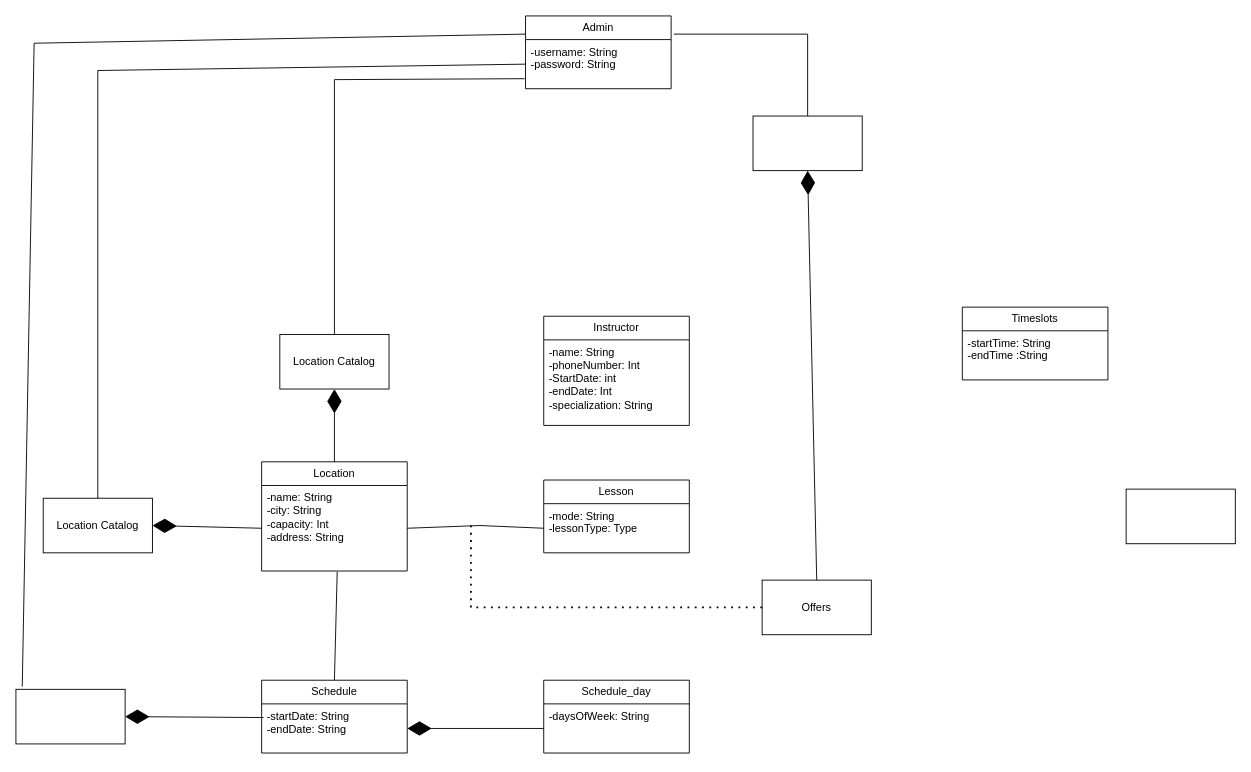
Some shapes in this 1251 by 772 pixel diagram are drawn without their labels. Here are the shapes that lost their labels. From the top down, the centre of each, then its label:
pixel 807 143: Offers Catalog
pixel 1180 516: Lesson Catalog
pixel 70 716: Schedule Catalog
